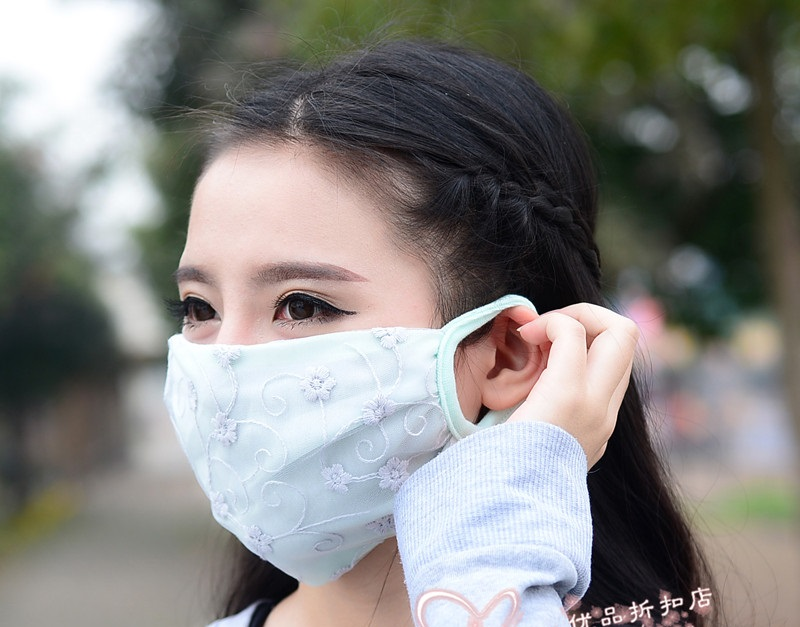face_mask: (165, 163, 455, 525)
